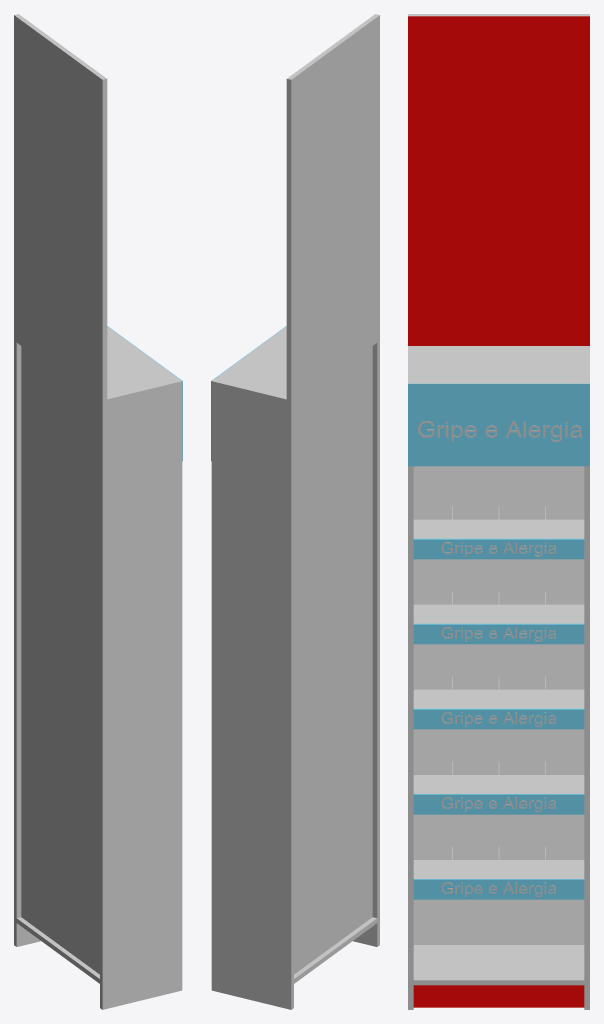
The model's file is mip gripe e alergia.glb.
3 views of the same model, side by side, from view 1: azimuth 30°, elevation 25°; view 2: azimuth 150°, elevation 25°; view 3: azimuth 270°, elevation 25° (orthographic). The views are drawn at different scales.
Visible parts, largest first — view 1: Geom3D_ (×6); view 2: Geom3D_ (×6); view 3: Geom3D (×8), Geom3D_ (×11), Geom3D_Gripe e Alergia#1 (×5), Geom3D_Gripe e Alergia.
Part boxes in pixels (x1,y1,x2,y2): Geom3D_ (×6): (14, 14, 182, 1009); Geom3D_ (×6): (211, 14, 379, 1009); Geom3D (×8): (408, 16, 589, 1007); Geom3D_ (×11): (408, 14, 589, 1009); Geom3D_Gripe e Alergia#1 (×5): (441, 542, 556, 897); Geom3D_Gripe e Alergia: (418, 421, 581, 442).
Size of the model in its own units: 0.263 by 2.9 by 0.5.
